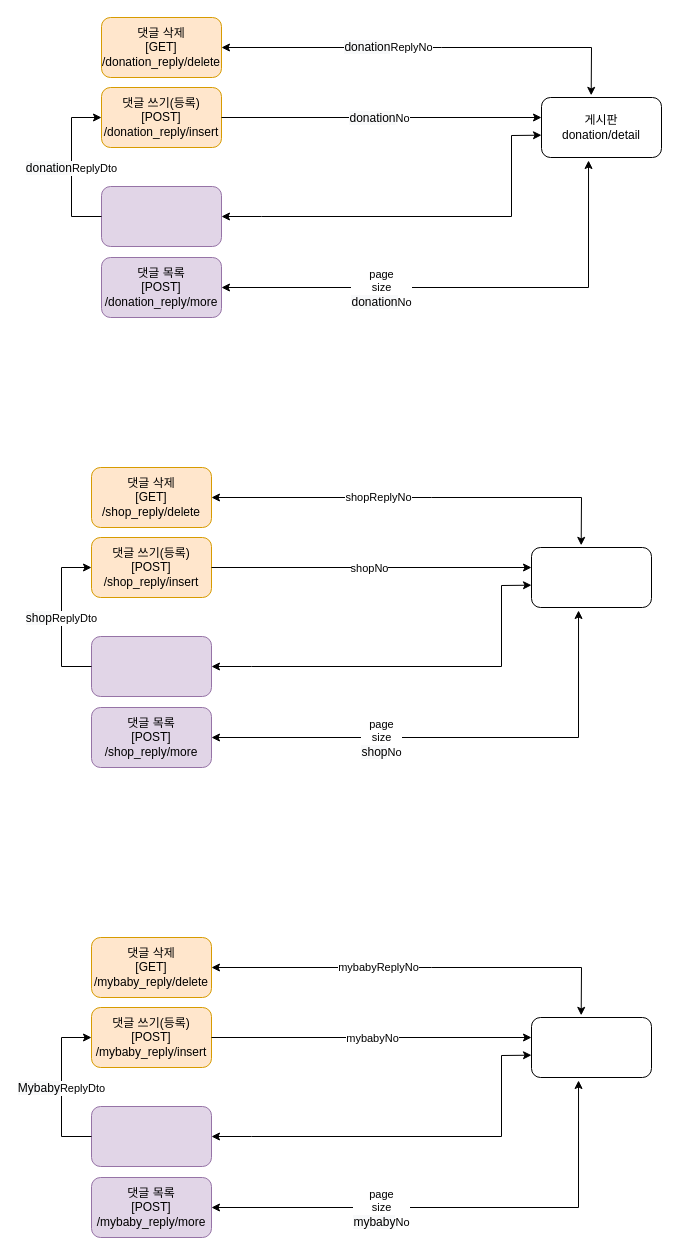
The diagram is 679 pixels wide and 1255 high, and some of its shapes have lost their labels. Here are the shapes that lost their labels. From the top down, the centre of each, then its label:
At point 161,216: "댓글 쓰기(입력) [GET] /donation_reply/insert".
At point 591,577: "게시판 shop/detail".
At point 151,666: "댓글 쓰기(입력) [GET] /shop_reply/insert".
At point 591,1047: "게시판 mybaby/detail".
At point 151,1136: "댓글 쓰기(입력) [GET] /mybaby_reply/insert".
